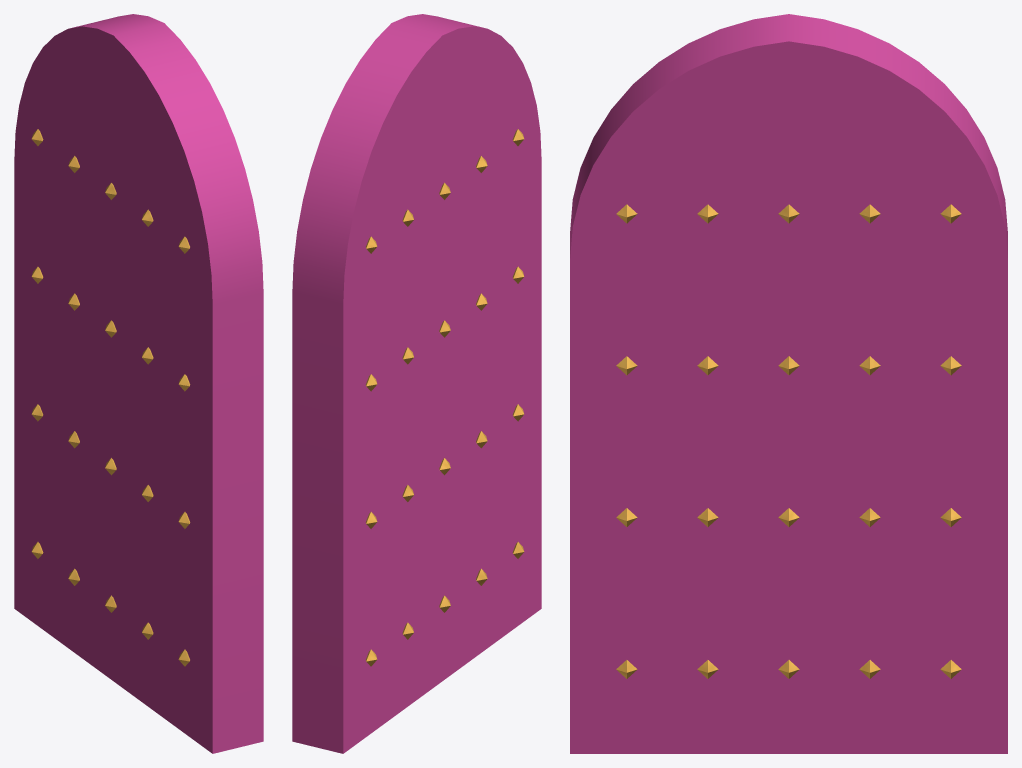
The model's file is citadel_door_archive.glb.
3 renders of one model, left to right at view 1: azimuth 30°, elevation 25°; view 2: azimuth 150°, elevation 25°; view 3: azimuth 270°, elevation 25°, orthographic. The views are drawn at different scales.
Visible parts, largest first — view 1: door_archive_velvet, door_archive_gold; view 2: door_archive_velvet, door_archive_gold; view 3: door_archive_velvet, door_archive_gold.
Boxes of the visible parts, x1,y1,x2,y2 form: door_archive_velvet: (14,14,263,753); door_archive_gold: (31,129,190,666); door_archive_velvet: (292,14,541,753); door_archive_gold: (365,129,524,666); door_archive_velvet: (570,14,1007,753); door_archive_gold: (616,204,961,678).
Size of the model in its own units: 0.32 by 2.91 by 1.62.
Materials: 2 (1 with a texture image).
